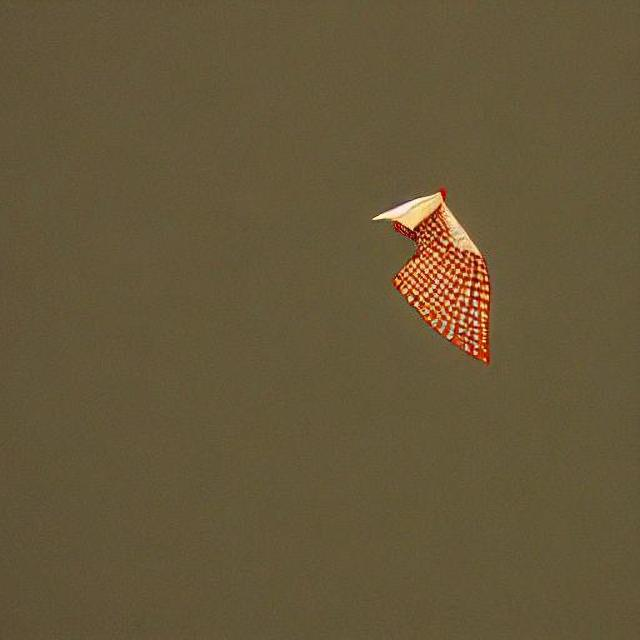floating object: (383, 192, 496, 366)
